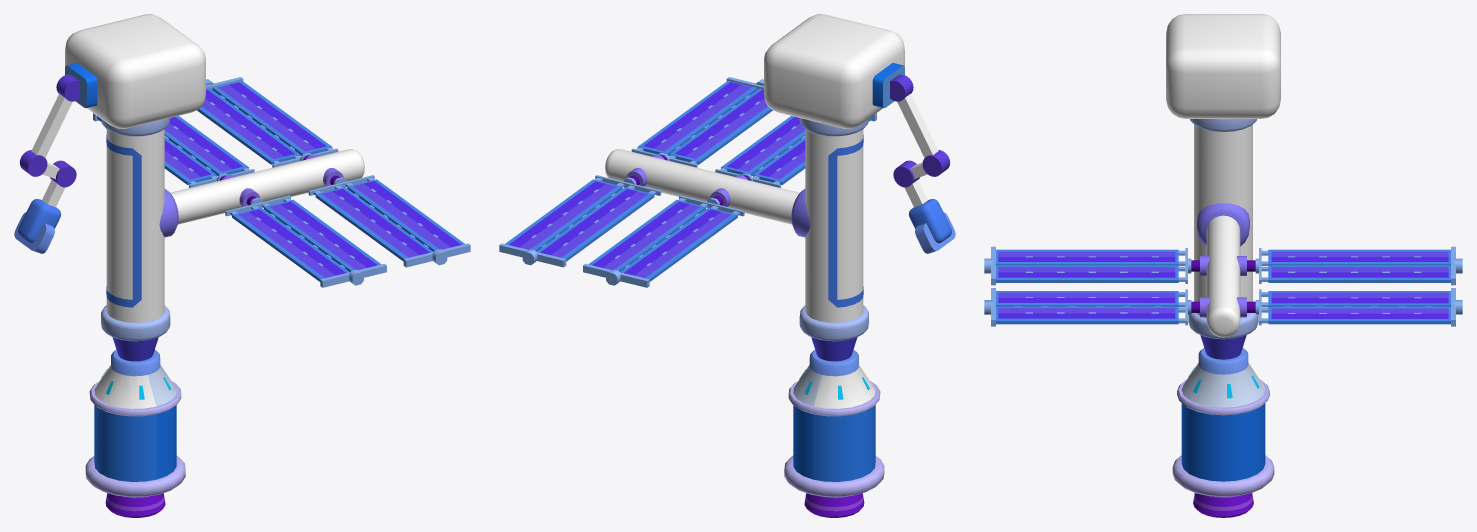
Rendered from Aircraft_035.fbx.
The picture shows the model from 3 angles, left to right: view 1: azimuth 30°, elevation 25°; view 2: azimuth 150°, elevation 25°; view 3: azimuth 270°, elevation 25°; orthographic projection.
Visible parts, largest first — view 1: Satellite_027_1, Satellite_027_3, Satellite_027_4, Satellite_027_2, Satellite_027_6, Satellite_027_7, Satellite_027_5, Satellite_027_8, Satellite_027_9; view 2: Satellite_027_1, Satellite_027_3, Satellite_027_6, Satellite_027_7, Satellite_027_4, Satellite_027_2, Satellite_027_5, Satellite_027_8, Satellite_027_9; view 3: Satellite_027_1, Satellite_027_2, Satellite_027_7, Satellite_027_4, Satellite_027_6, Satellite_027_3.
Boxes of the visible parts, x1,y1,x2,y2 form: Satellite_027_1: (65,14,205,517); Satellite_027_3: (159,149,364,237); Satellite_027_4: (308,175,470,267); Satellite_027_2: (225,195,386,287); Satellite_027_6: (197,77,338,167); Satellite_027_7: (93,113,254,187); Satellite_027_5: (14,160,76,253); Satellite_027_8: (31,74,79,157); Satellite_027_9: (19,150,59,179); Satellite_027_1: (764,14,904,517); Satellite_027_3: (605,149,810,237); Satellite_027_6: (499,175,661,267); Satellite_027_7: (583,195,744,287); Satellite_027_4: (631,77,772,167); Satellite_027_2: (715,113,876,187); Satellite_027_5: (893,160,955,253); Satellite_027_8: (890,74,938,157); Satellite_027_9: (910,150,950,179); Satellite_027_1: (1166,14,1280,517); Satellite_027_2: (984,246,1191,285); Satellite_027_7: (1255,246,1462,285); Satellite_027_4: (984,288,1191,326); Satellite_027_6: (1255,288,1462,326); Satellite_027_3: (1191,203,1255,337).
Size of the model in its own units: 22.36 by 29.69 by 27.14.
